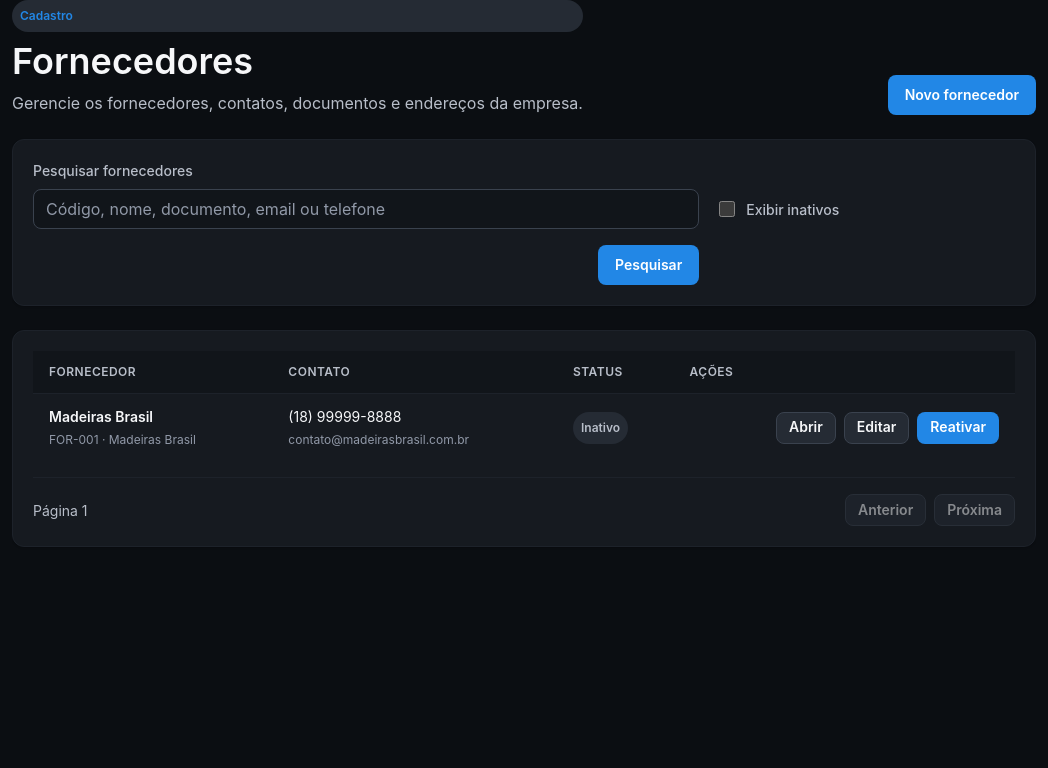
SuppliersRoute › reativa um fornecedor inativo
Expected: the button "Madeiras Brasil" is shown, [49,406,153,427]
Click the button "Reativar" at coordinates (958, 428), box [917,412,999,444]
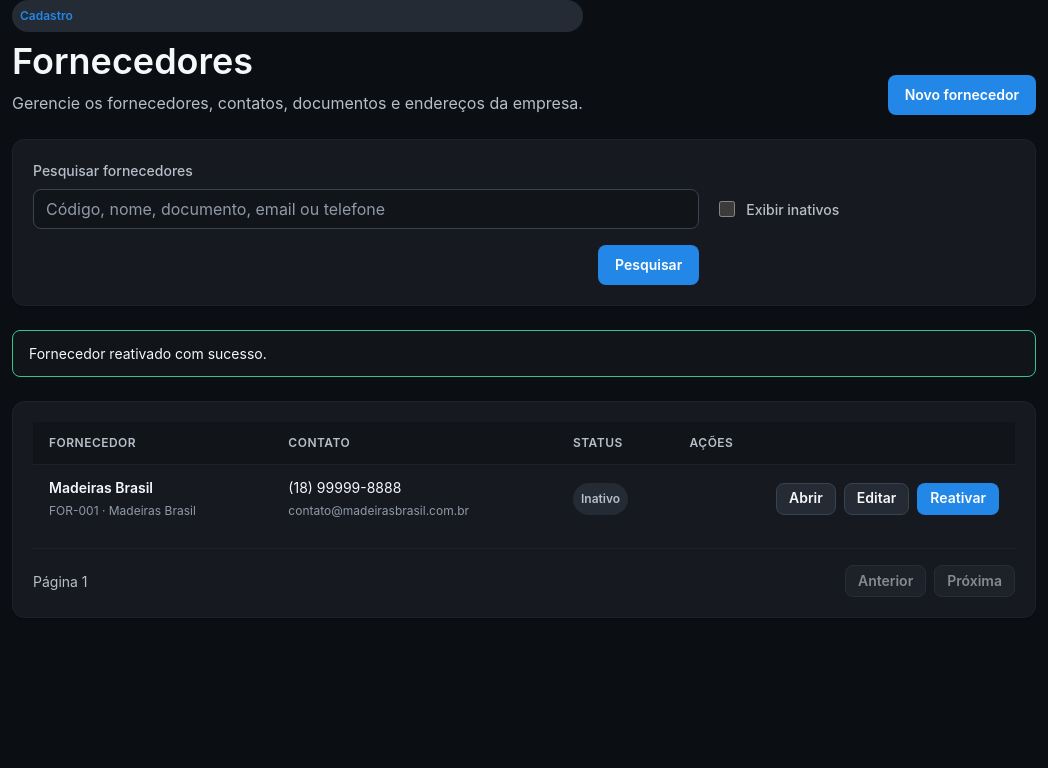
Now the text "Fornecedor reativado com sucesso." is shown, box [12,330,1036,377]
